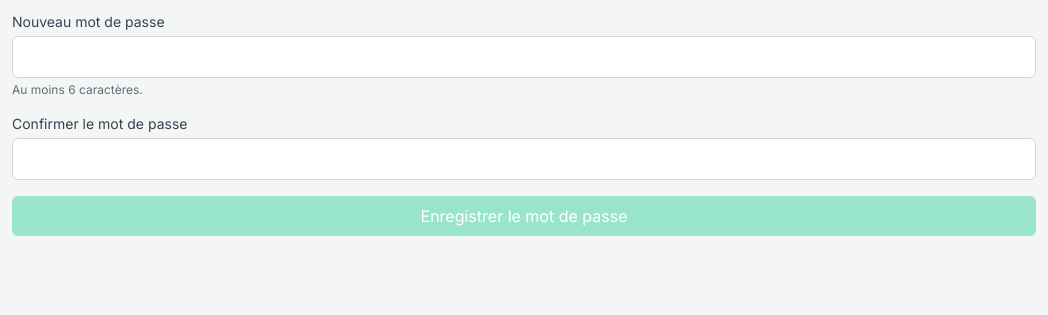
Test case: NewPasswordForm › enregistre le nouveau mot de passe
This screenshot has width=1048, height=315.
Type "secret123" into the password field labelled "Nouveau mot de passe".
click(524, 57); type("secret123")  # box [12,36,1036,78]
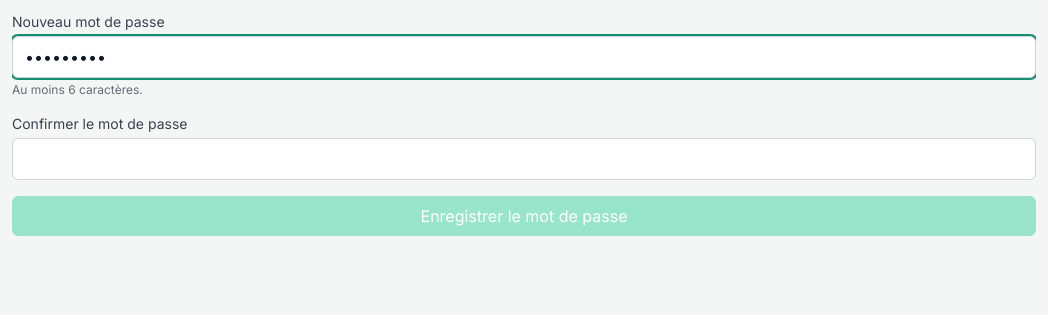
Type "secret123" into the password field labelled "Confirmer le mot de passe".
click(524, 159); type("secret123")  # box [12,138,1036,180]
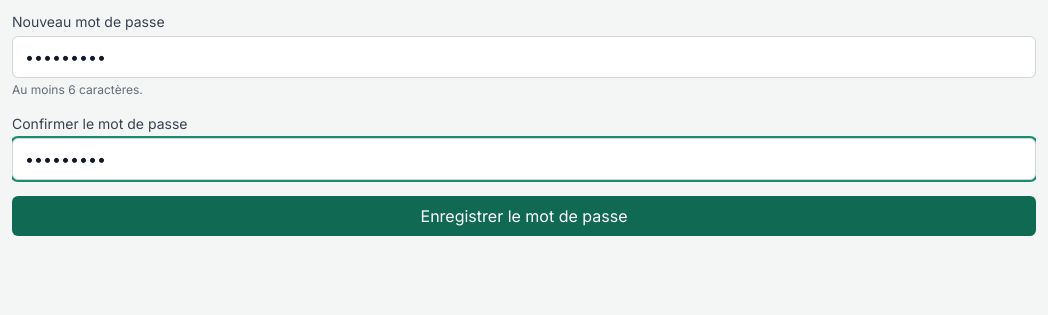
Click the button "Enregistrer le mot de passe".
click(524, 216)  # box [12,196,1036,236]
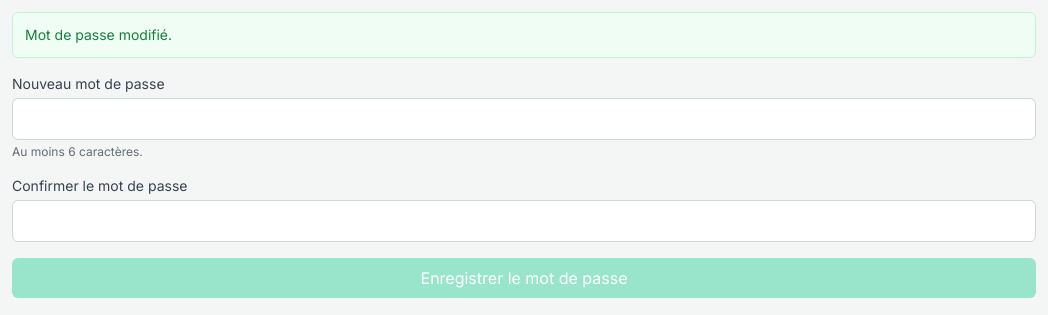
expect the message shows "Mot de passe modifié": met, box [25,26,172,43]
expect the password field labelled "Nouveau mot de passe" is empty: met, box [12,98,1036,140]
